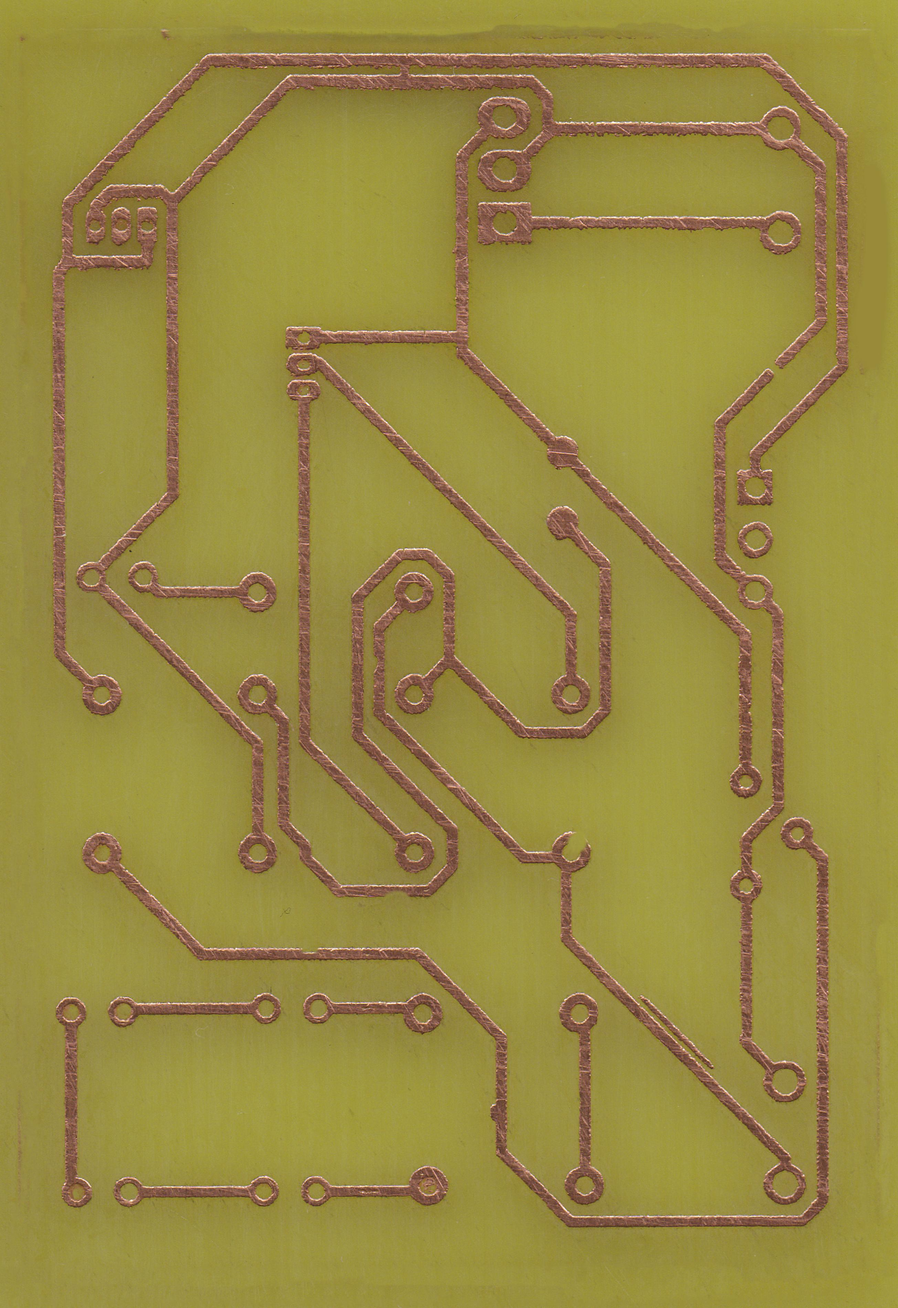missing_hole: (549, 828, 594, 875)
mouse_bite: (378, 884, 419, 903)
open_circuit: (761, 355, 788, 382)
short: (391, 52, 418, 92)
spur: (487, 1097, 510, 1129)
spurious_copper: (635, 991, 717, 1073)
